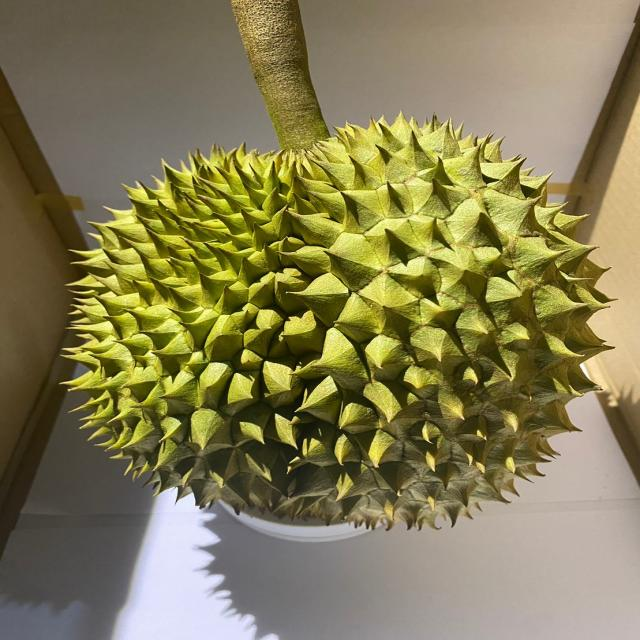immature: (63, 111, 616, 530)
